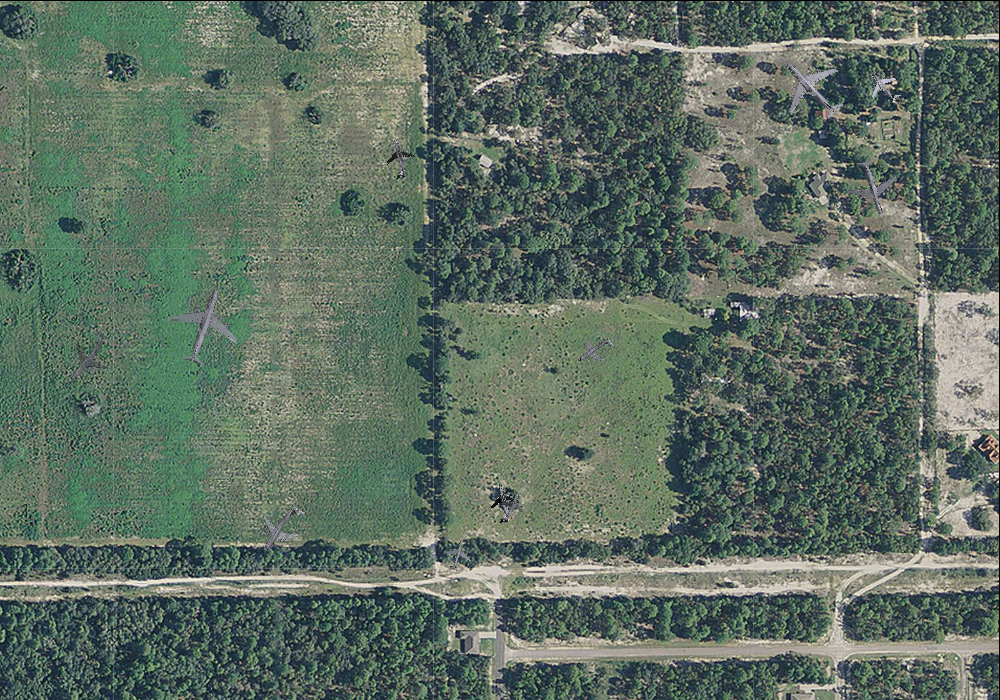plane: (763, 39, 860, 136), (156, 277, 251, 376), (50, 318, 123, 392), (245, 493, 317, 567), (839, 152, 905, 221), (568, 324, 621, 376), (859, 59, 909, 111), (375, 134, 420, 182), (480, 480, 524, 526), (490, 486, 531, 528), (439, 537, 475, 574)
